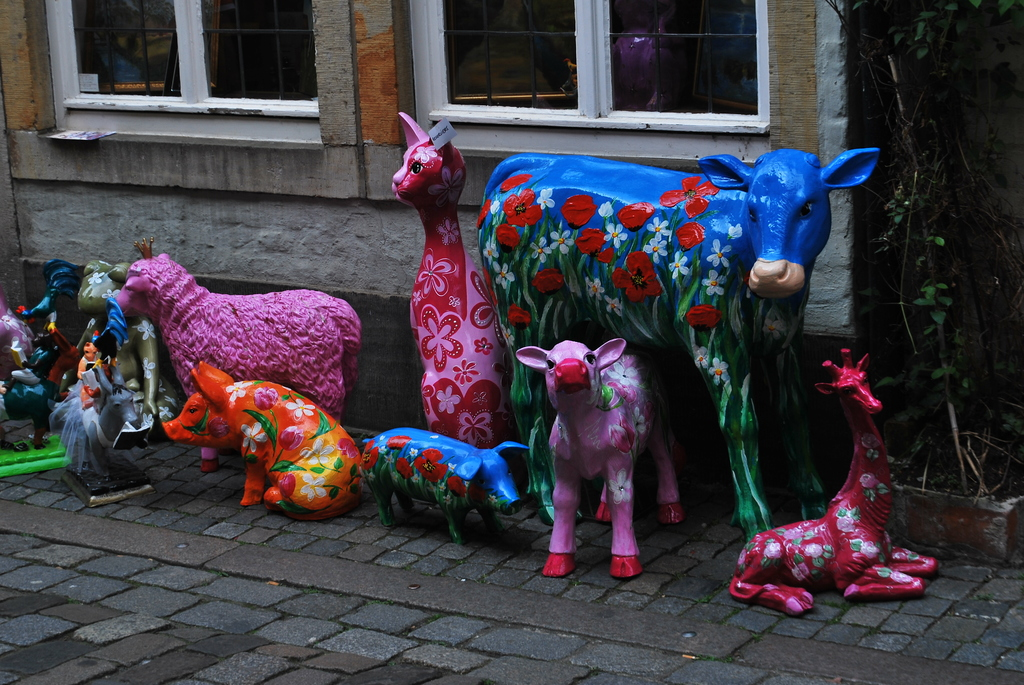Animal: (713, 340, 948, 618), (382, 102, 514, 448), (509, 330, 688, 578), (105, 255, 358, 428), (157, 358, 367, 512), (354, 418, 525, 546)
